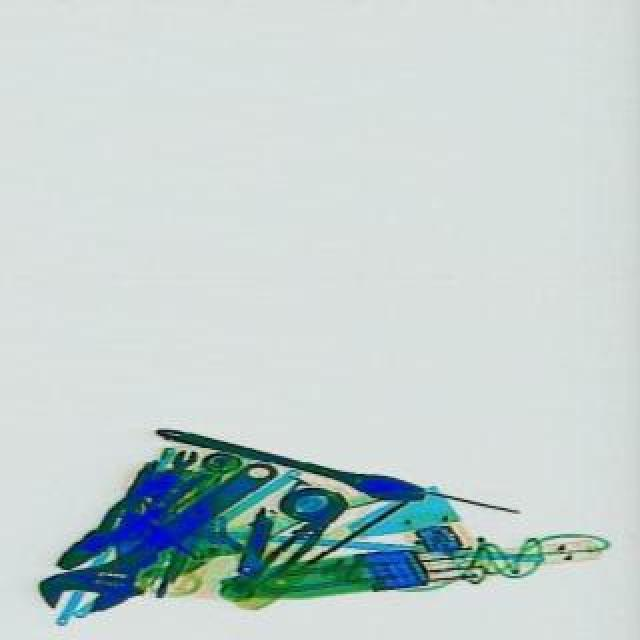scissors: (40, 438, 296, 636), (166, 444, 206, 488)
wrench: (52, 478, 180, 584), (256, 492, 354, 588)
